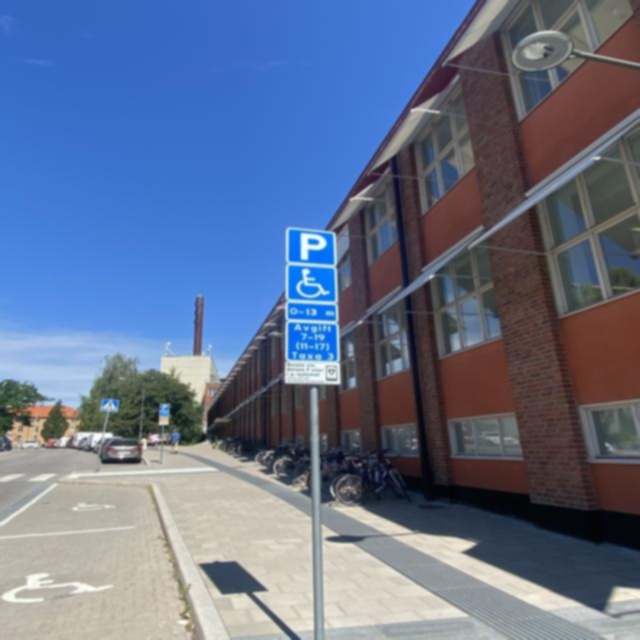P-skylt: (288, 230, 337, 266)
